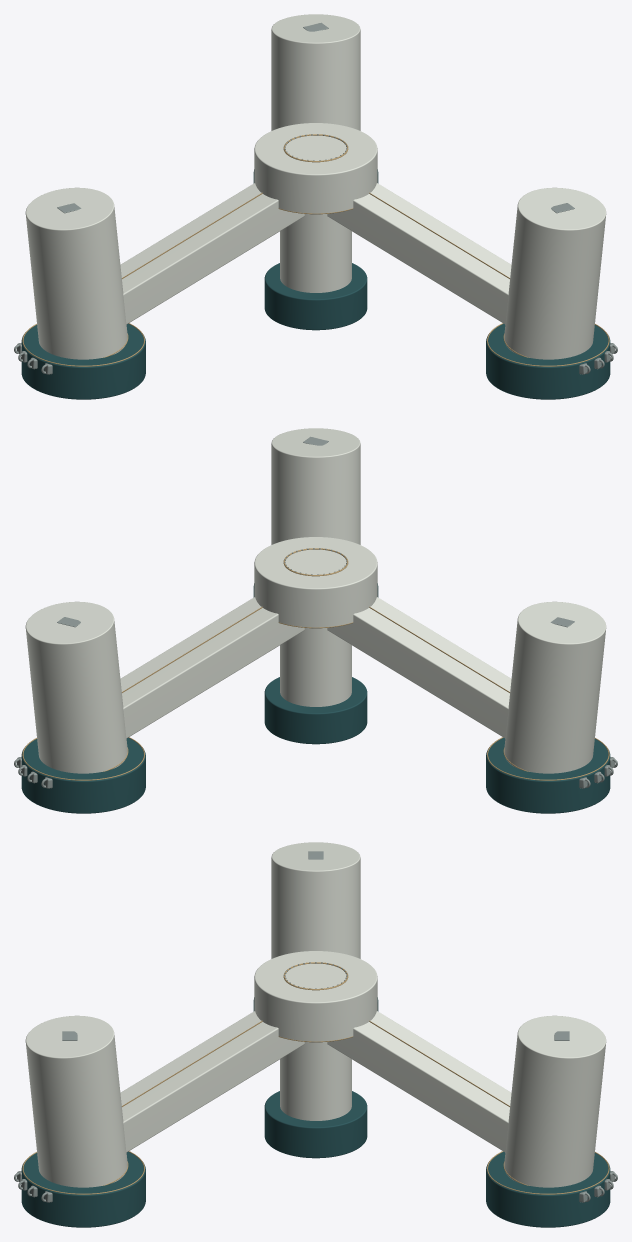
Rendered from reference-platform.glb.
3 views of the same model, one above another, from view 1: azimuth 30°, elevation 25°; view 2: azimuth 150°, elevation 25°; view 3: azimuth 270°, elevation 25° (orthographic).
Parts seen in each view (by area): view 1: OuterColumn_1, OuterColumn_3, RadialBrace_1, RadialBrace_3, OuterColumn_2, CentralHub, BallastBase_1, BallastBase_3, CentralKeel, CentralFoot; view 2: OuterColumn_1, OuterColumn_2, RadialBrace_1, RadialBrace_2, OuterColumn_3, CentralHub, BallastBase_1, BallastBase_2, CentralKeel, CentralFoot; view 3: OuterColumn_2, OuterColumn_3, RadialBrace_2, RadialBrace_3, OuterColumn_1, CentralHub, BallastBase_2, BallastBase_3, CentralKeel, CentralFoot.
Boxes of the visible parts, x1,y1,x2,y2 form: OuterColumn_1: [25, 187, 127, 359]; OuterColumn_3: [504, 187, 606, 359]; RadialBrace_1: [120, 183, 304, 324]; RadialBrace_3: [327, 183, 511, 324]; OuterColumn_2: [271, 14, 360, 130]; CentralHub: [254, 123, 377, 213]; BallastBase_1: [21, 323, 145, 399]; BallastBase_3: [486, 323, 610, 399]; CentralKeel: [280, 214, 351, 292]; CentralFoot: [264, 263, 367, 330]; OuterColumn_1: [504, 601, 606, 773]; OuterColumn_2: [25, 601, 127, 773]; RadialBrace_1: [327, 597, 511, 738]; RadialBrace_2: [120, 597, 304, 738]; OuterColumn_3: [271, 428, 360, 544]; CentralHub: [254, 537, 377, 627]; BallastBase_1: [486, 737, 610, 813]; BallastBase_2: [21, 737, 145, 813]; CentralKeel: [280, 628, 351, 706]; CentralFoot: [264, 677, 367, 744]; OuterColumn_2: [504, 1015, 606, 1187]; OuterColumn_3: [25, 1015, 127, 1187]; RadialBrace_2: [327, 1011, 511, 1152]; RadialBrace_3: [120, 1011, 304, 1152]; OuterColumn_1: [271, 842, 360, 958]; CentralHub: [254, 951, 377, 1041]; BallastBase_2: [486, 1151, 610, 1227]; BallastBase_3: [21, 1151, 145, 1227]; CentralKeel: [280, 1042, 351, 1120]; CentralFoot: [264, 1091, 367, 1158].
Size of the model in its own units: 93.7 by 33.4 by 106.
